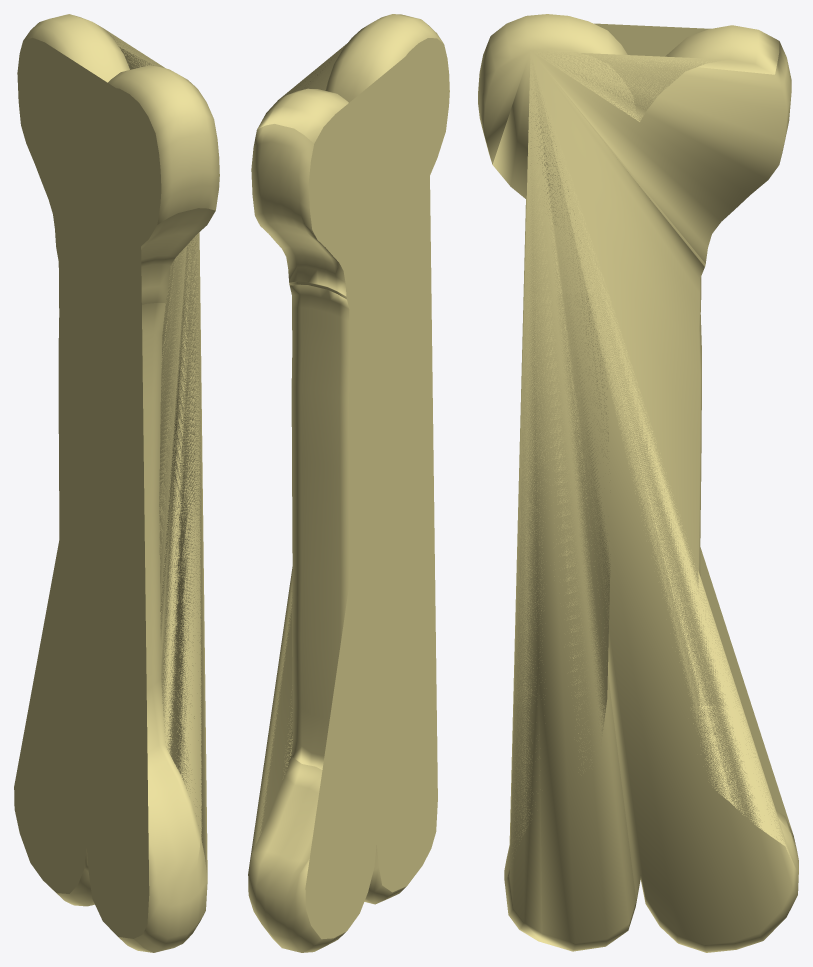
File: boneNew3.fbx
3 views of the same model, side by side, from view 1: azimuth 30°, elevation 25°; view 2: azimuth 150°, elevation 25°; view 3: azimuth 270°, elevation 25° (orthographic). The views are drawn at different scales.
Visible parts, largest first — view 1: Circle; view 2: Circle; view 3: Circle.
Boxes of the visible parts, x1,y1,x2,y2 form: Circle: [14, 14, 219, 952]; Circle: [248, 14, 449, 952]; Circle: [478, 14, 798, 952].
Bounding box in the file's own units: 6.38 × 92 × 28.82.
